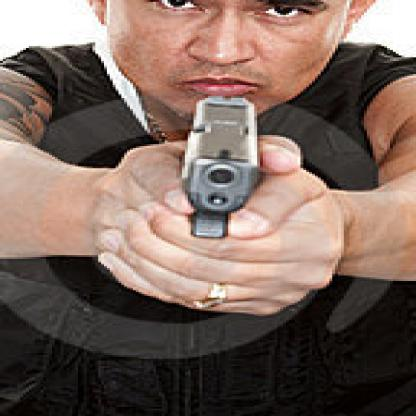gun: (144, 88, 320, 262)
